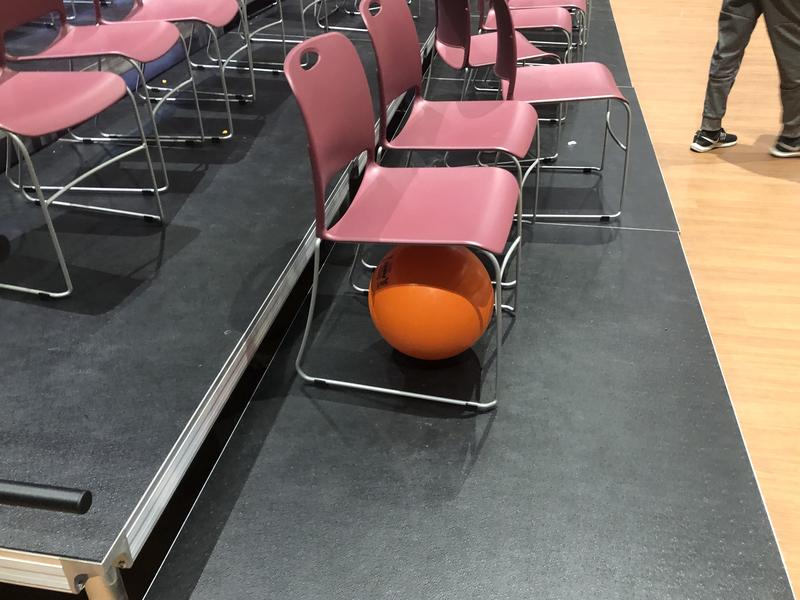ball: (368, 243, 495, 357)
